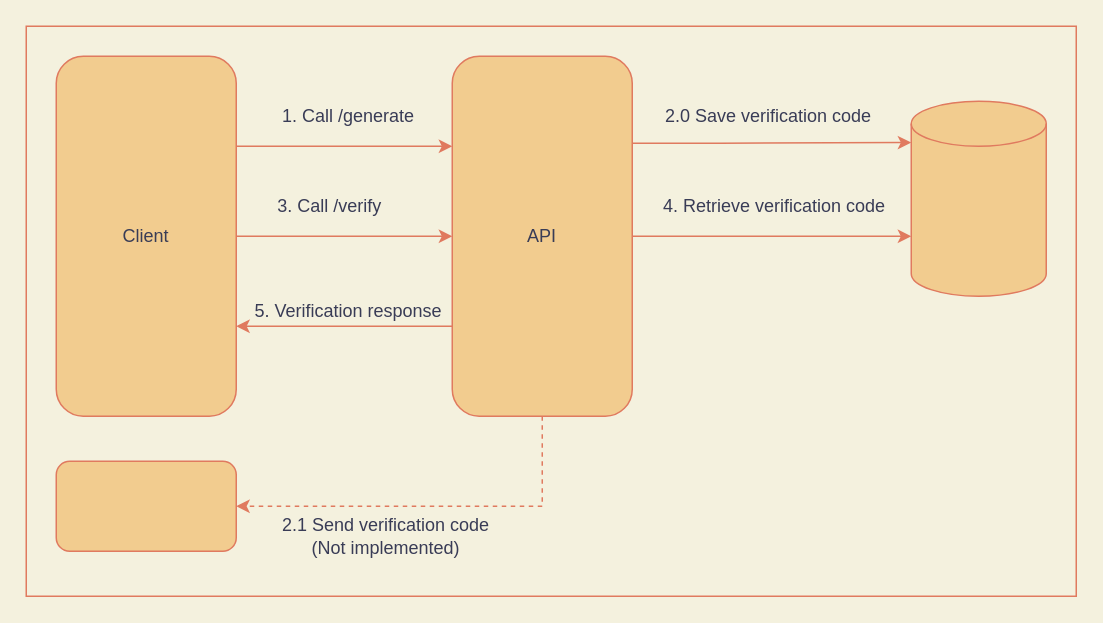
This 1103x623 diagram has some shape labels left out. Here are the shapes that lost their labels. From the top down, the centre of each, then its label:
(978,198): Redis
(145,505): Mobile Device
